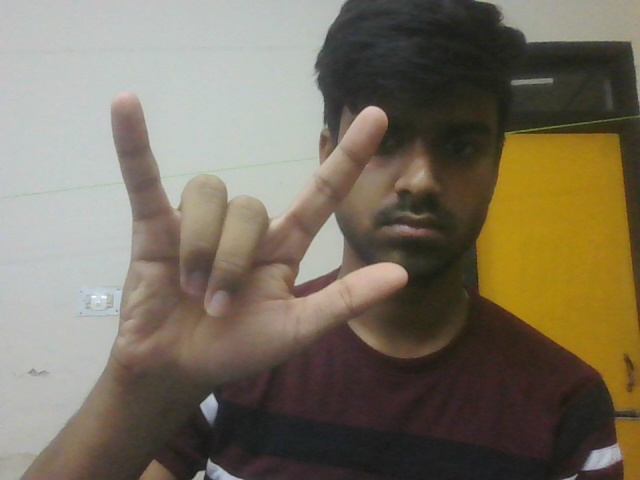iloveyou: (96, 89, 441, 436)
